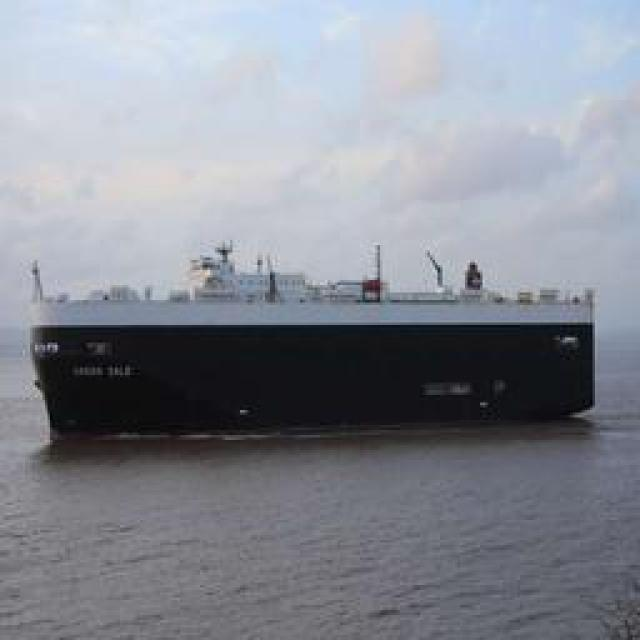Ship: (29, 250, 614, 435)
